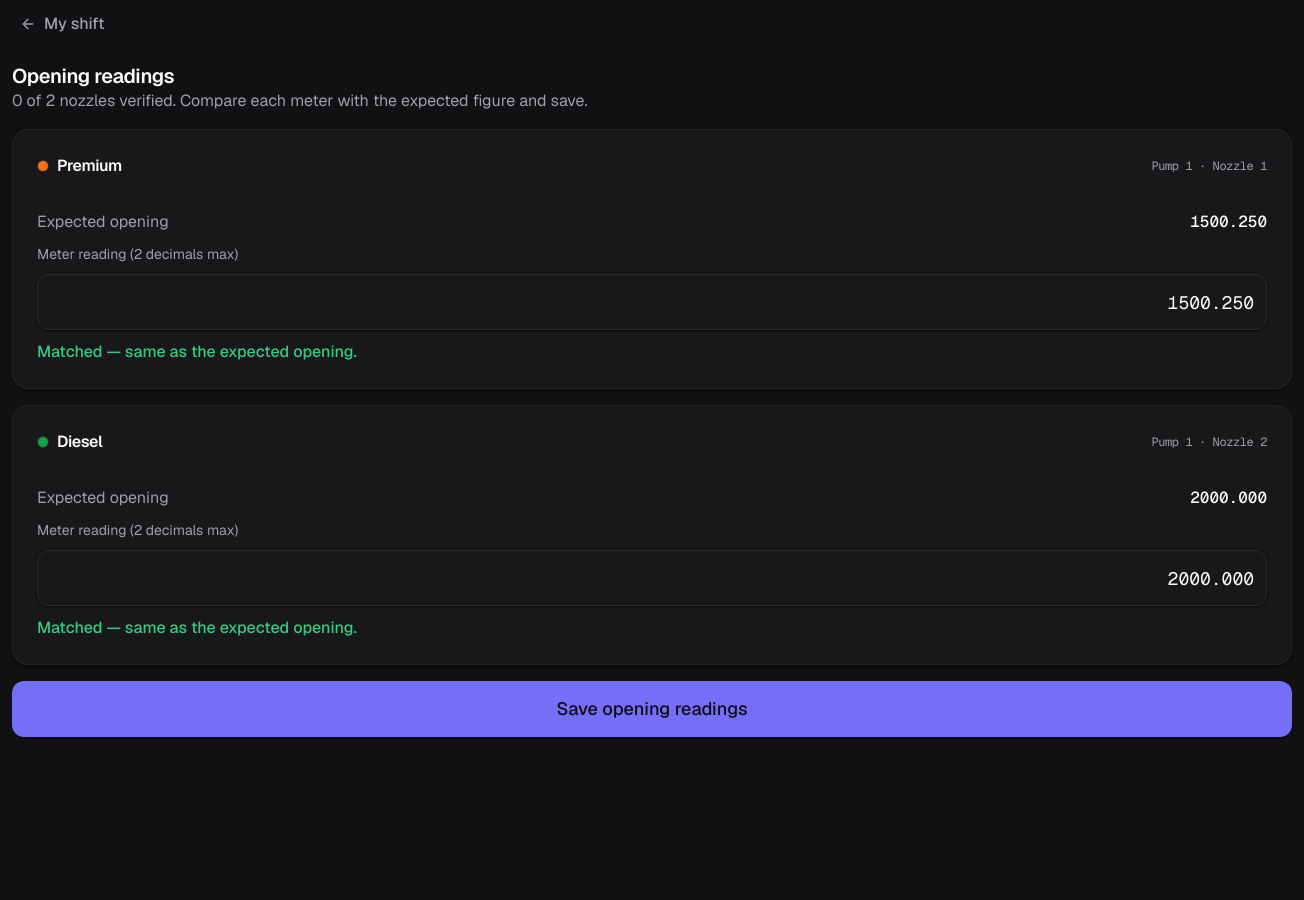
Scenario: OpeningReadingsPage › blocks a LOWER reading client-side with the supervisor message
Replace the text in the field labelled "Meter reading (2 decimals max)" below "1500.250" with "1499" at (652, 302), box [37,274,1267,330]
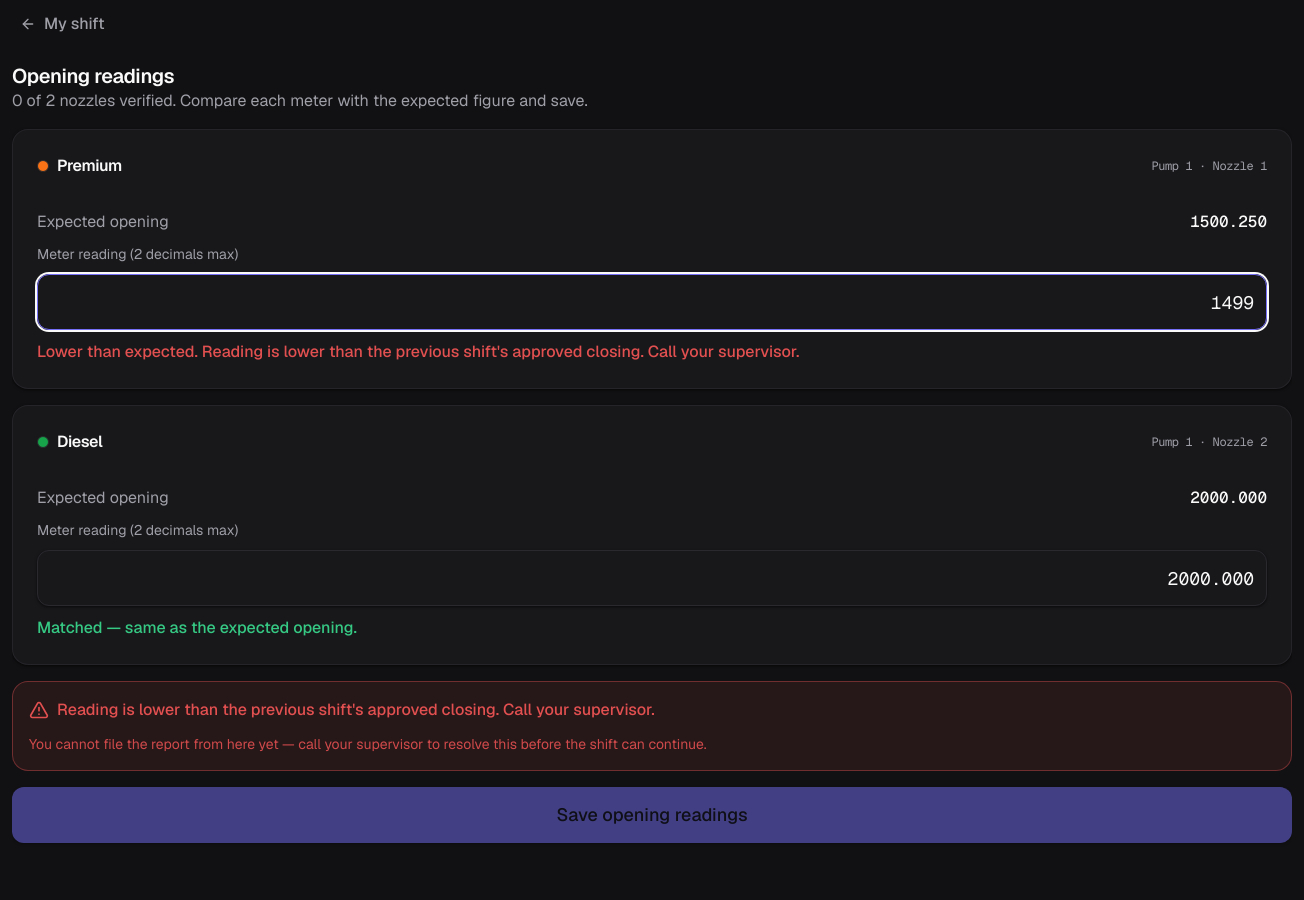
Expected: the button "Save opening readings" is disabled, [12,787,1292,843]
Expected: the text "lower than the previous shift's approved closing" is shown, [202,341,800,362]
